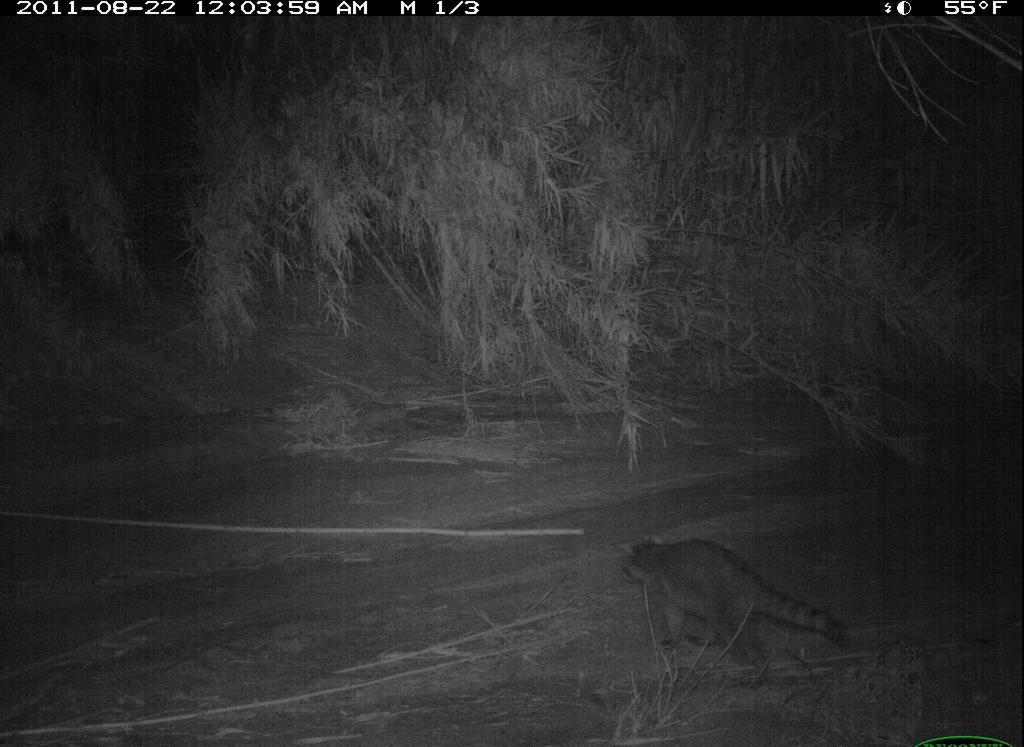raccoon: (605, 537, 905, 701)
